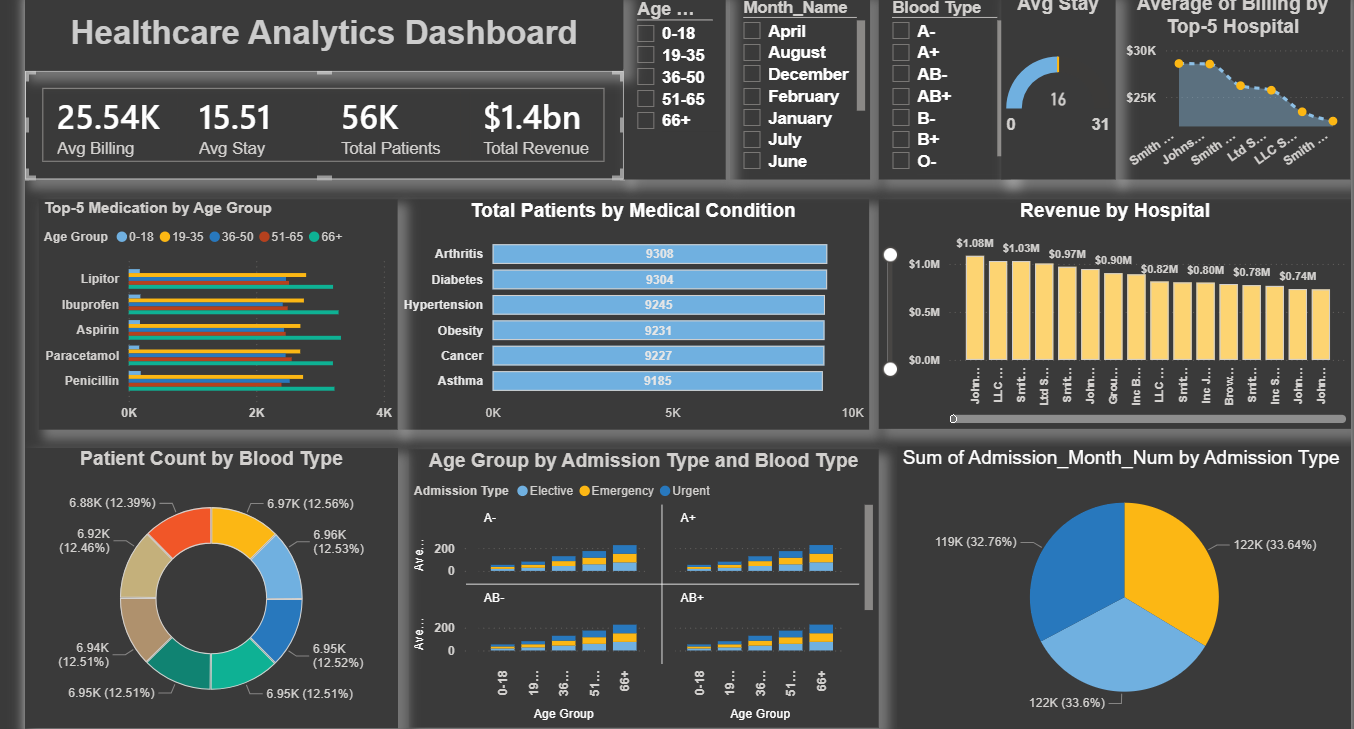

Layout of this report page (visuals, bound fields, positions):
{"tool":"powerbi","page":{"name":"Page 1","canvas":[1280,720],"ordinal":0},"visuals":[{"type":"cardVisual","fields":{"Data":["final_cleaned_healthcare_data.Avg Billing","final_cleaned_healthcare_data.Avg Stay","final_cleaned_healthcare_data.Total Patients","final_cleaned_healthcare_data.Total Revenue"]},"box":[0,75,577.5,105],"z":0},{"type":"clusteredBarChart","fields":{"Category":["final_cleaned_healthcare_data.Medical Condition"],"Y":["final_cleaned_healthcare_data.Total Patients"]},"box":[360,198.8,455,222.5],"z":1000},{"type":"clusteredColumnChart","title":"Revenue by Hospital","fields":{"Category":["final_cleaned_healthcare_data.Hospital"],"Y":["Sum(final_cleaned_healthcare_data.Billing Amount)"]},"box":[823.8,198.8,456.2,221.2],"z":2000},{"type":"lineStackedColumnComboChart","title":"Age Group by Admission Type and Blood Type","fields":{"Category":["final_cleaned_healthcare_data.Age Group"],"Series":["final_cleaned_healthcare_data.Admission Type"],"Y":["Avg(final_cleaned_healthcare_data.Age)"],"Rows":["final_cleaned_healthcare_data.Blood Type"]},"box":[370,440,453.8,268.8],"z":3000},{"type":"pieChart","fields":{"Category":["final_cleaned_healthcare_data.Admission Type"],"Y":["Sum(final_cleaned_healthcare_data.Admission_Month_Num)"]},"box":[841.7,438.3,438.3,270],"z":4000},{"type":"slicer","fields":{"Values":["final_cleaned_healthcare_data.Admission_Month_Name"]},"box":[680,0,135,180],"z":5000},{"type":"slicer","fields":{"Values":["final_cleaned_healthcare_data.Age Group"]},"box":[577.5,0,98.8,180],"z":6000},{"type":"slicer","fields":{"Values":["final_cleaned_healthcare_data.Blood Type"]},"box":[823.8,0,127.5,180],"z":7000},{"type":"textbox","box":[0,0,577.5,75],"z":8000},{"type":"clusteredBarChart","title":"Top-5 Medication by Age Group","fields":{"Series":["final_cleaned_healthcare_data.Age Group"],"Y":["final_cleaned_healthcare_data.Medication Count"],"Category":["final_cleaned_healthcare_data.Medication"]},"box":[13.8,198.8,346.2,222.5],"z":9000},{"type":"donutChart","fields":{"Category":["final_cleaned_healthcare_data.Blood Type"],"Y":["final_cleaned_healthcare_data.Patient Count"]},"box":[0,438.8,360,270],"z":10000},{"type":"lineChart","title":"Average of Billing by Top-5 Hospital","fields":{"Category":["final_cleaned_healthcare_data.Hospital"],"Y":["Avg(final_cleaned_healthcare_data.Billing Amount)"]},"box":[1052.5,0,227.5,180],"z":11000},{"type":"gauge","fields":{"Y":["final_cleaned_healthcare_data.Avg Stay"]},"box":[942.5,0,110,180],"z":12000}]}

Visuals, with their boxes on the page's 1280x720 design canvas (x1, y1, x2, y2). These are canvas units, not pixel positions in the 1354x729 screenshot, which may show the page scaled, cropped or inside an application window:
cardVisual - final_cleaned_healthcare_data.Avg Billing x final_cleaned_healthcare_data.Avg Stay: pyautogui.locateOnScreen(0, 75, 578, 180)
clusteredBarChart - final_cleaned_healthcare_data.Medical Condition x final_cleaned_healthcare_data.Total Patients: pyautogui.locateOnScreen(360, 199, 815, 421)
"Revenue by Hospital" clusteredColumnChart: pyautogui.locateOnScreen(824, 199, 1280, 420)
"Age Group by Admission Type and Blood Type" lineStackedColumnComboChart: pyautogui.locateOnScreen(370, 440, 824, 709)
pieChart - final_cleaned_healthcare_data.Admission Type x Sum(final_cleaned_healthcare_data.Admission_Month_Num): pyautogui.locateOnScreen(842, 438, 1280, 708)
slicer - final_cleaned_healthcare_data.Admission_Month_Name: pyautogui.locateOnScreen(680, 0, 815, 180)
slicer - final_cleaned_healthcare_data.Age Group: pyautogui.locateOnScreen(578, 0, 676, 180)
slicer - final_cleaned_healthcare_data.Blood Type: pyautogui.locateOnScreen(824, 0, 951, 180)
textbox: pyautogui.locateOnScreen(0, 0, 578, 75)
"Top-5 Medication by Age Group" clusteredBarChart: pyautogui.locateOnScreen(14, 199, 360, 421)
donutChart - final_cleaned_healthcare_data.Blood Type x final_cleaned_healthcare_data.Patient Count: pyautogui.locateOnScreen(0, 439, 360, 709)
"Average of Billing by Top-5 Hospital" lineChart: pyautogui.locateOnScreen(1052, 0, 1280, 180)
gauge - final_cleaned_healthcare_data.Avg Stay: pyautogui.locateOnScreen(942, 0, 1052, 180)
